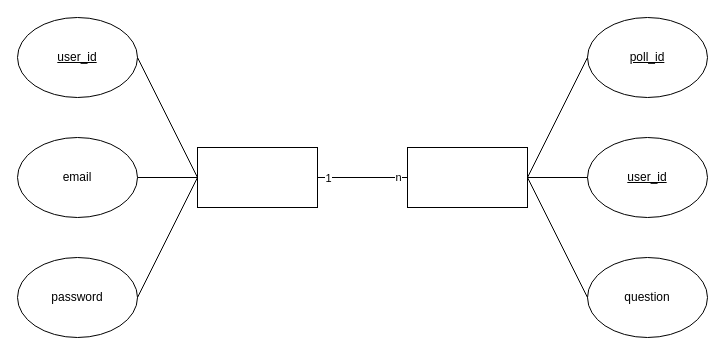
The diagram is 725 pixels wide and 355 high, and some of its shapes have lost their labels. The shapes that lost their labels are listed below. From the top down, each one's centre as x and y in pixels, then its label:
At (x=257, y=177): "users".
At (x=467, y=177): "polls".
